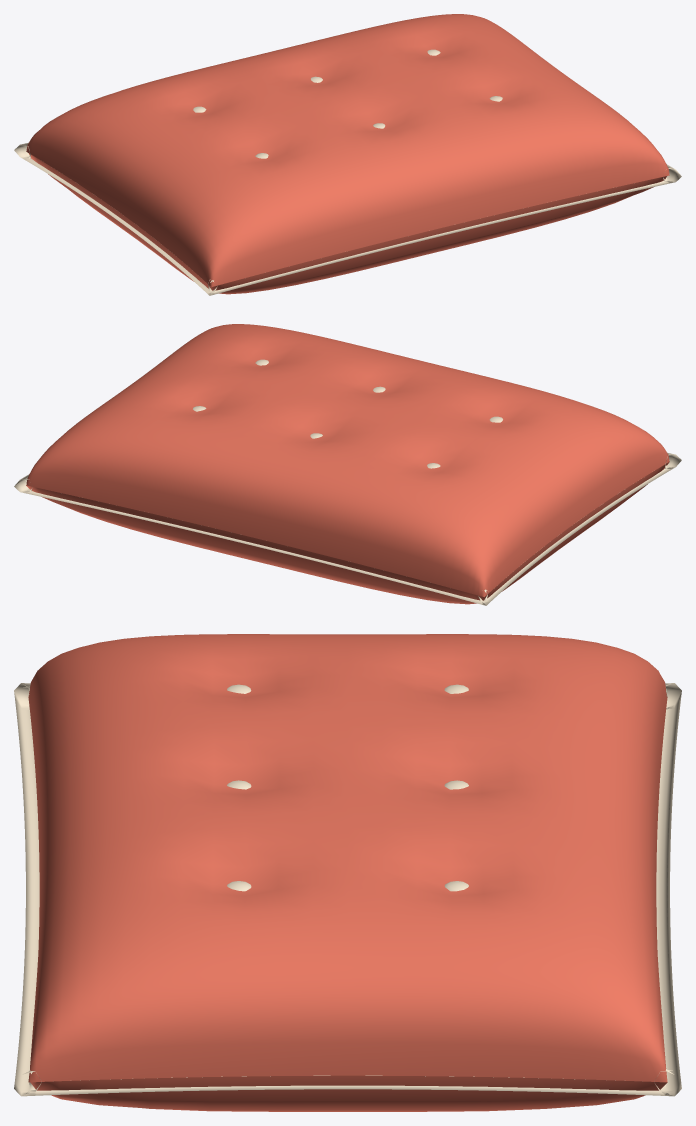
The model's file is item_cushion.gltf.
3 views of the same model, one above another, from view 1: azimuth 30°, elevation 25°; view 2: azimuth 150°, elevation 25°; view 3: azimuth 270°, elevation 25° (orthographic). The views are drawn at different scales.
Parts seen in each view (by area): view 1: item_cushion; view 2: item_cushion; view 3: item_cushion.
Part boxes in pixels (x1=…): item_cushion: x1=14, y1=14, x2=681, y2=295; item_cushion: x1=14, y1=324, x2=681, y2=605; item_cushion: x1=14, y1=634, x2=681, y2=1111.
Size of the model in its own units: 1.38 by 0.2949 by 0.9782.
